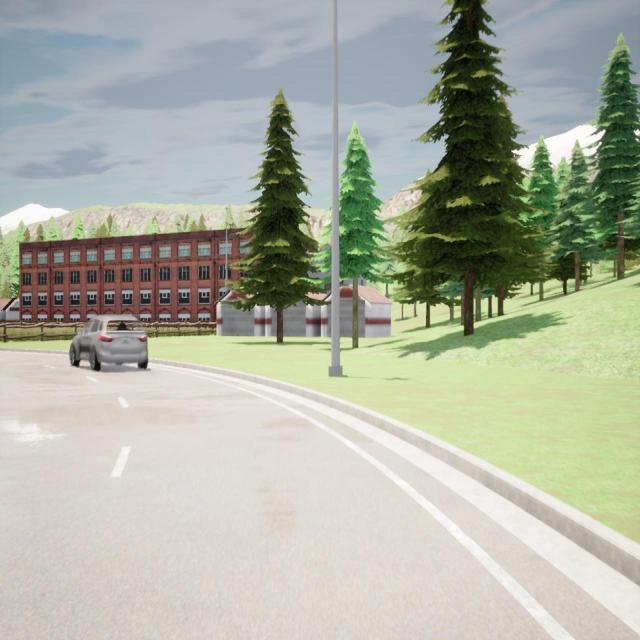Vehicle: (69, 315, 148, 370)
